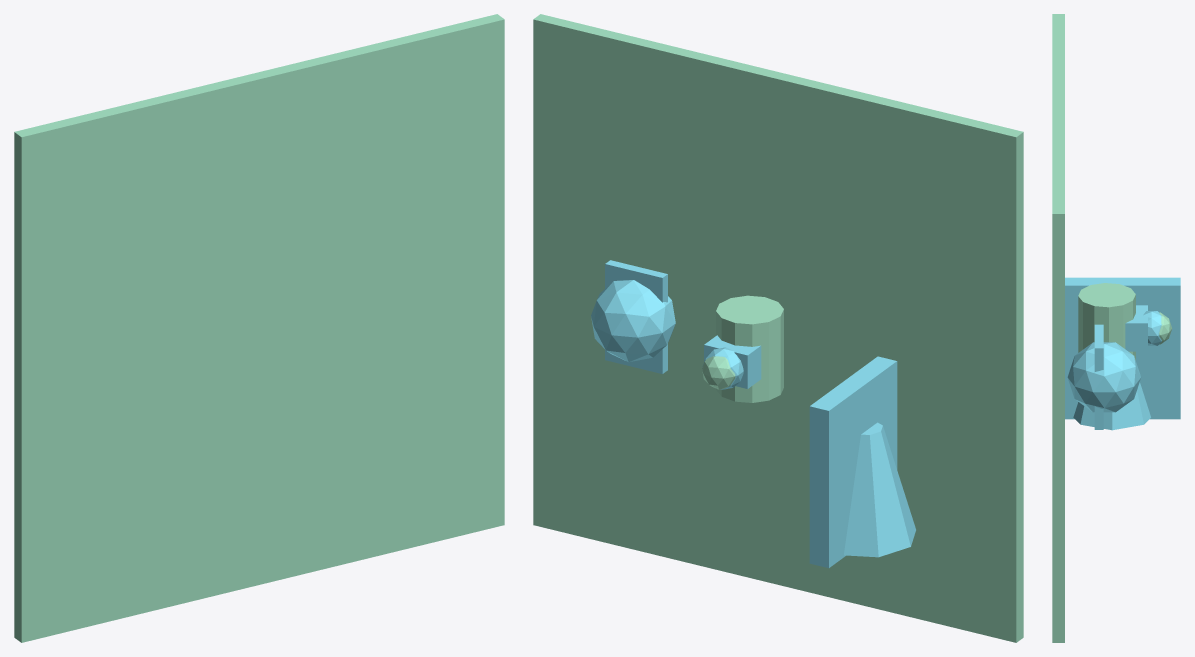
The model's file is ant-colony-kit.glb.
The picture shows the model from 3 angles, left to right: view 1: azimuth 30°, elevation 25°; view 2: azimuth 150°, elevation 25°; view 3: azimuth 270°, elevation 25°; orthographic projection. The views are drawn at different scales.
Visible parts, largest first — view 1: ENVIRONMENT_GROUND; view 2: ENVIRONMENT_GROUND, ENVIRONMENT_PANEL, PROFILE_ENVIRONMENT_DETAIL, OBSTACLE, PLAYER_BODY, PROFILE_OBSTACLE_DETAIL, PROFILE_PLAYER_DETAIL, PROFILE_PLAYER_HEAD; view 3: ENVIRONMENT_GROUND, ENVIRONMENT_PANEL, OBSTACLE, PLAYER_BODY, PROFILE_ENVIRONMENT_DETAIL, PROFILE_PLAYER_DETAIL, PROFILE_OBSTACLE_DETAIL, PLAYER_CORE, PROFILE_PLAYER_HEAD.
Part boxes in pixels (<box>): ENVIRONMENT_GROUND: <box>14,14,504,642</box>; ENVIRONMENT_GROUND: <box>533,14,1023,642</box>; ENVIRONMENT_PANEL: <box>809,356,897,568</box>; PROFILE_ENVIRONMENT_DETAIL: <box>844,422,915,557</box>; OBSTACLE: <box>591,280,675,362</box>; PLAYER_BODY: <box>716,295,783,402</box>; PROFILE_OBSTACLE_DETAIL: <box>605,260,667,373</box>; PROFILE_PLAYER_DETAIL: <box>704,335,761,388</box>; PROFILE_PLAYER_HEAD: <box>702,356,735,389</box>; ENVIRONMENT_GROUND: <box>1052,14,1064,642</box>; ENVIRONMENT_PANEL: <box>1065,277,1180,419</box>; OBSTACLE: <box>1067,342,1140,412</box>; PLAYER_BODY: <box>1078,283,1135,360</box>; PROFILE_ENVIRONMENT_DETAIL: <box>1073,382,1150,430</box>; PROFILE_PLAYER_DETAIL: <box>1125,305,1147,351</box>; PROFILE_OBSTACLE_DETAIL: <box>1094,324,1103,429</box>; PLAYER_CORE: <box>1143,311,1161,345</box>; PROFILE_PLAYER_HEAD: <box>1159,312,1172,344</box>.
Size of the model in its own units: 9 by 9 by 2.44.
